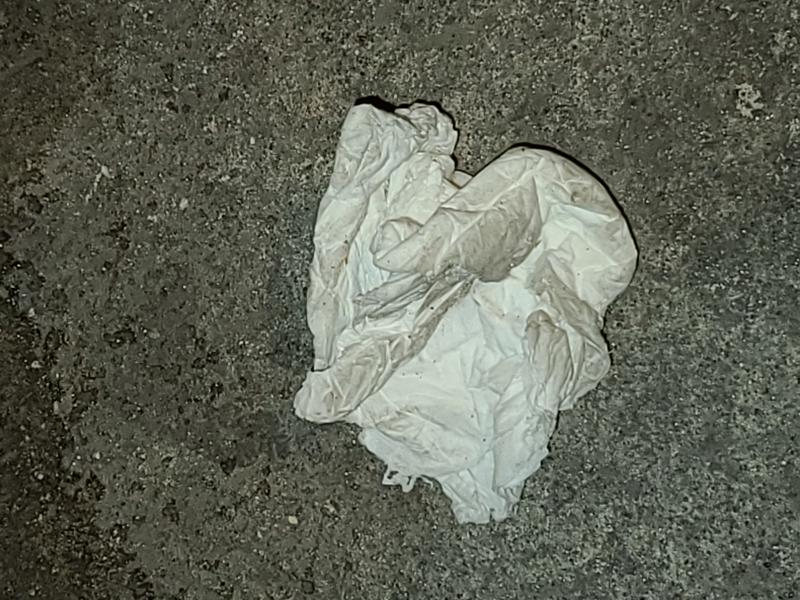papel: (291, 97, 640, 525)
